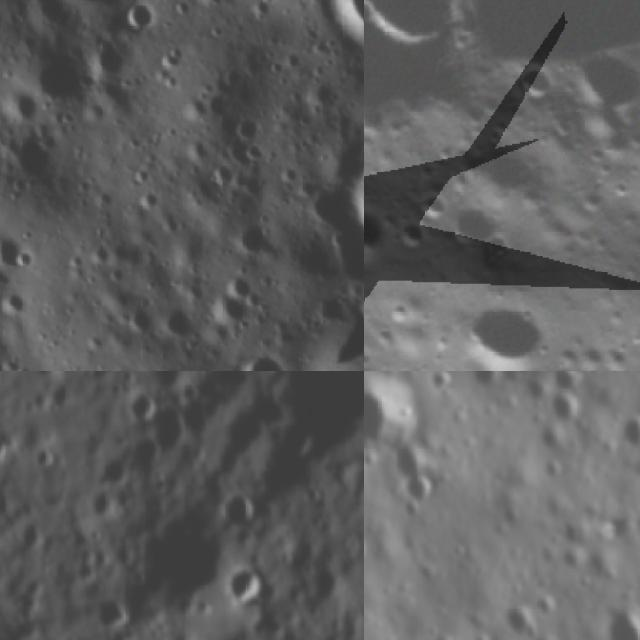crater: (446, 275, 560, 371), (364, 0, 499, 79), (21, 35, 116, 130), (0, 171, 43, 371), (562, 33, 640, 135), (267, 371, 364, 450), (318, 124, 364, 284), (436, 188, 519, 270), (0, 119, 78, 202), (497, 47, 566, 116), (306, 0, 364, 75), (78, 32, 141, 94), (220, 211, 282, 274), (364, 384, 420, 453), (200, 286, 256, 343), (302, 282, 358, 337), (114, 298, 169, 353), (0, 83, 53, 138), (216, 266, 269, 320), (114, 0, 170, 48), (223, 336, 299, 371), (383, 213, 434, 264), (364, 194, 397, 271), (154, 302, 203, 351), (226, 110, 274, 158), (0, 221, 37, 283), (176, 131, 222, 177), (408, 189, 454, 235), (499, 598, 548, 640), (0, 281, 41, 330), (150, 398, 187, 449), (306, 561, 345, 608), (130, 180, 172, 222), (198, 89, 239, 131), (93, 588, 132, 632), (202, 159, 243, 200), (222, 483, 260, 526), (240, 0, 286, 34), (230, 560, 266, 602), (234, 134, 272, 172), (541, 388, 582, 423), (97, 452, 135, 487), (404, 472, 444, 505), (122, 387, 162, 419), (130, 432, 167, 465), (87, 483, 119, 516), (603, 613, 640, 640), (47, 377, 78, 409), (147, 371, 196, 391), (539, 357, 600, 371), (431, 371, 454, 400), (631, 402, 640, 475), (354, 483, 364, 523)
